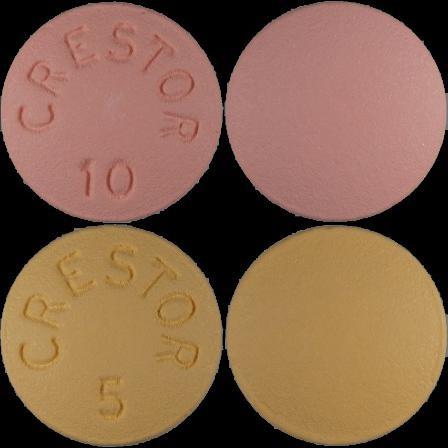55154-6922: (0, 0, 224, 224)
